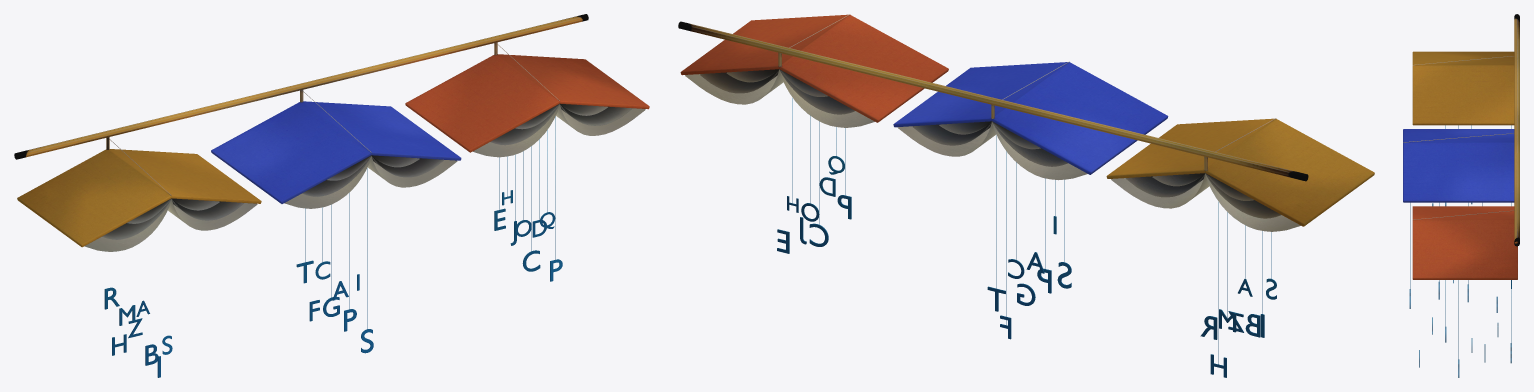
The model's file is HangingBook_LOD0.glb.
The picture shows the model from 3 angles, left to right: view 1: azimuth 30°, elevation 25°; view 2: azimuth 150°, elevation 25°; view 3: azimuth 270°, elevation 25°; orthographic projection. The views are drawn at different scales.
Visible parts, largest first — view 1: Hanging Books_PROCESSED.001_LOD0; view 2: Hanging Books_PROCESSED.001_LOD0; view 3: Hanging Books_PROCESSED.001_LOD0.
Part boxes in pixels (x1,y1,x2,y2): Hanging Books_PROCESSED.001_LOD0: [14, 14, 649, 377]; Hanging Books_PROCESSED.001_LOD0: [678, 14, 1374, 377]; Hanging Books_PROCESSED.001_LOD0: [1403, 14, 1519, 377].
Size of the model in its own units: 15.3 by 5.83 by 3.32.
1 material, 1 textured.
